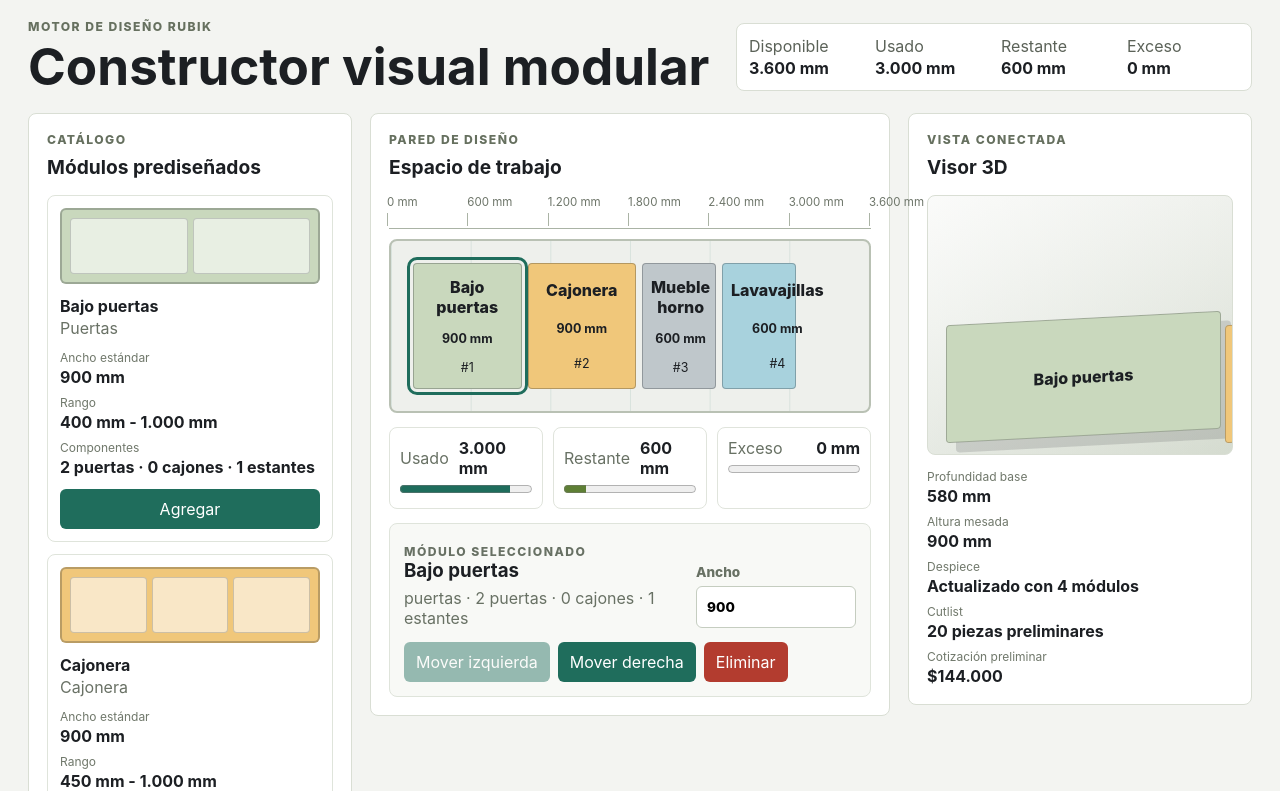
Test: Design engine visual modular builder › edits the selected module width and updates door count plus space metrics
Step 1. Replace the text in the number field named "Editar ancho" with "400" → coordinates (776, 607), box [696,586,856,628]
(page scrolled)
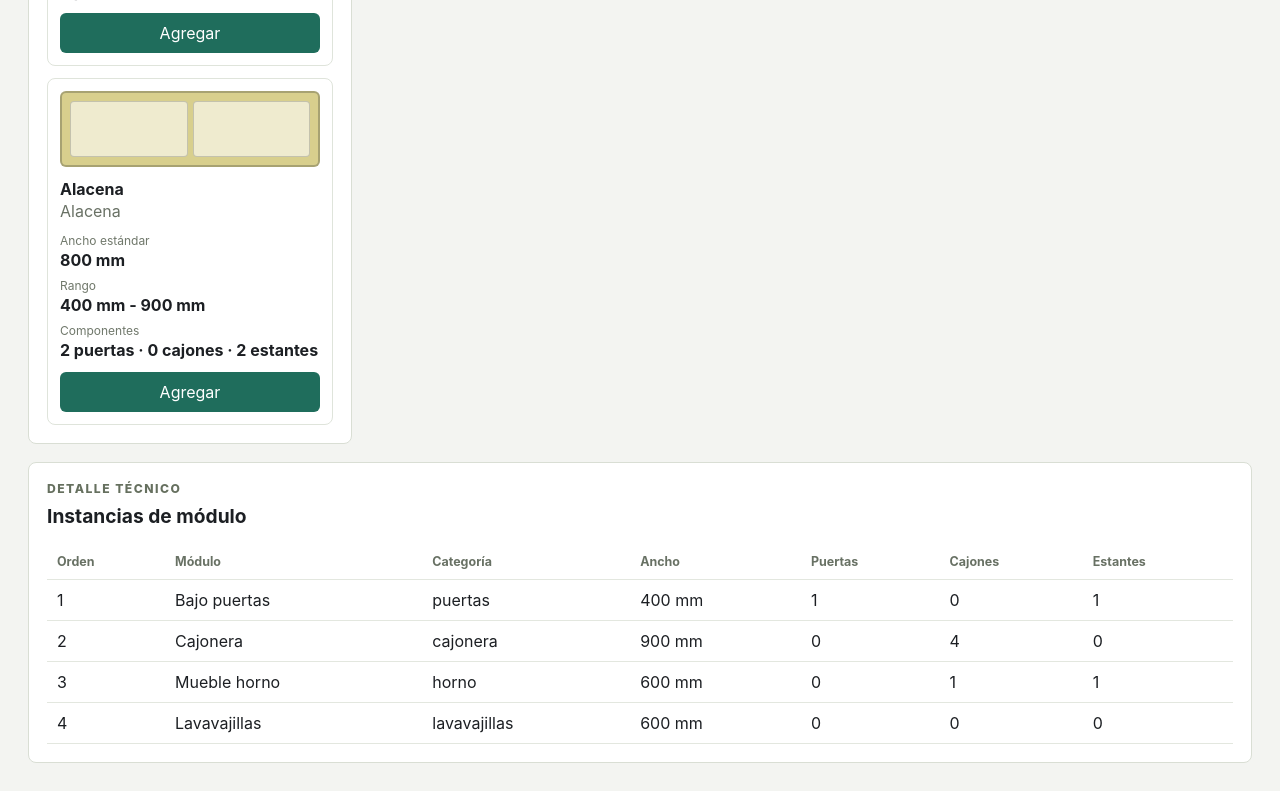
expect the cell "Bajo puertas" is shown: met, box [165,579,422,620]
expect the cell "400 mm" is shown: met, box [630,579,801,620]
expect the 2nd cell "1" is shown: met, box [801,579,940,620]
